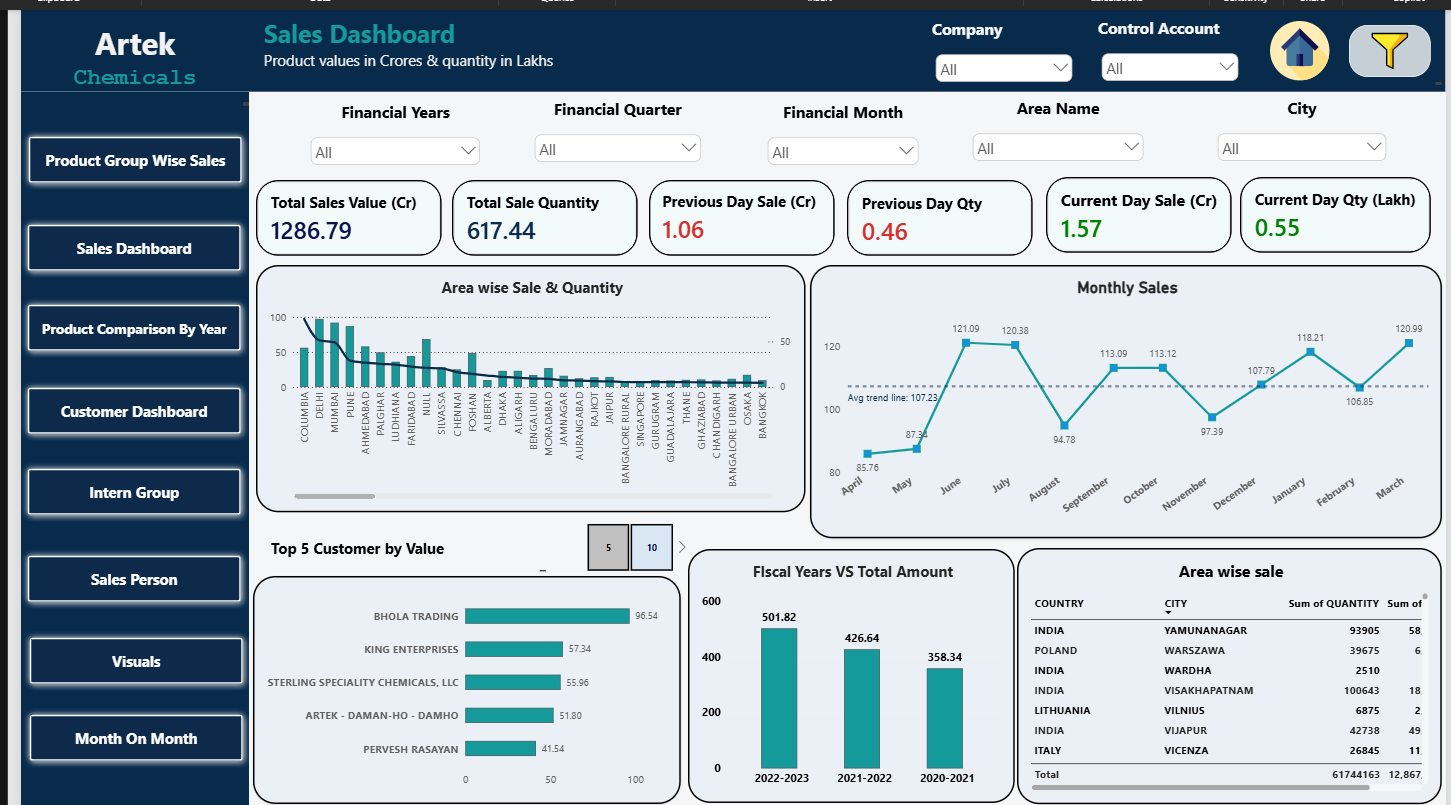

The page's visual inventory and layout, read from the dashboard file:
{"tool":"powerbi","page":{"name":"Sales Dashboard","canvas":[1920,1080],"ordinal":2},"visuals":[{"type":"columnChart","title":"FIscal Years VS Total Amount","fields":{"Category":["Calendar.Fiscal Year"],"Y":["FactSales.Total Sales Value (Cr)"]},"box":[897.6,726.4,440,342.4],"z":0},{"type":"tableEx","title":"Area wise sale","fields":{"Values":["FactSales.COUNTRY","FactSales.CITY","Sum(FactSales.QUANTITY)","Sum(FactSales.VALUE)"]},"box":[1341.2,724.5,572.3,344.7],"z":1000},{"type":"cardVisual","fields":{"Data":["FactSales.Total Quantity"]},"box":[580.3,228.6,250.3,102],"z":2000},{"type":"lineStackedColumnComboChart","title":"Area wise Sale & Quantity","fields":{"Category":["FactSales.CITY"],"Y":["FactSales.Total Sales Value (Cr)"],"Y2":["FactSales.Total Sale Quantity"]},"box":[316.8,344,739.8,333.2],"z":3000},{"type":"cardVisual","fields":{"Data":["FactSales.Previous Day Qty (Lakh)"]},"box":[1112.7,228.6,250,102],"z":4000},{"type":"shape","box":[0,110,307.1,970],"z":5000},{"type":"cardVisual","fields":{"Data":["FactSales.Current Day Sale (Cr)"]},"box":[1379.7,225.4,250.3,102],"z":6000},{"type":"shape","box":[0,0,1918.3,110],"z":7000},{"type":"cardVisual","fields":{"Data":["FactSales.Current Day Qty (Lakh)"]},"box":[1641.8,225.4,257.4,102.3],"z":8000},{"type":"textbox","title":"Sales Dashboard","box":[307.3,0,1606.3,109.3],"z":9000},{"type":"textbox","title":"Artek","box":[0,0,307.1,128.6],"z":10000},{"type":"lineChart","title":"Monthly Sales","fields":{"Category":["Calendar.Month Name"],"Y":["FactSales.Total Sales Value (Cr)"]},"box":[1062.5,343.4,851.1,367.6],"z":11000},{"type":"slicer","title":"Control Account","fields":{"Values":["FactSales.CONTROL_ACCOUNT"]},"box":[1449.8,10,194.3,90],"z":12000},{"type":"clusteredBarChart","title":"Top 5 customer  by Value","fields":{"Category":["FactSales.CUSTOMER"],"Y":["FactSales.Total Sales Value (Cr)"]},"box":[312,761.6,576,307.2],"z":13000},{"type":"actionButton","title":"Product Group wise Sales","box":[1.3,161.6,305,80],"z":14000},{"type":"slicer","title":"Company","fields":{"Values":["FactSales.COMPANY"]},"box":[1226.7,10.3,194.3,90],"z":15000},{"type":"cardVisual","fields":{"Data":["FactSales.Previous Day Sale (Cr)"]},"box":[845.7,228.6,250,102],"z":16000},{"type":"actionButton","title":"Product Group wise Sales","box":[0,280.1,305,80],"z":17000},{"type":"actionButton","title":"Product Group wise Sales","box":[0,387.8,305,80],"z":18000},{"type":"actionButton","title":"Product Group wise Sales","box":[0,499.6,305,80],"z":19000},{"type":"slicer","title":"Area Name","fields":{"Values":["FactSales.LOCATIONNAME"]},"box":[1276.8,116.8,240,89.6],"z":20000},{"type":"actionButton","title":"Product Group wise Sales","box":[0,608.7,305,80],"z":21000},{"type":"slicer","title":"City","fields":{"Values":["FactSales.CITY"]},"box":[1606.4,116.8,236.8,89.6],"z":22000},{"type":"actionButton","title":"Product Group wise Sales","box":[0,725.8,305,80],"z":23000},{"type":"actionButton","title":"Product Group wise Sales","box":[2.7,836.3,305,80],"z":24000},{"type":"actionButton","title":"Product Group wise Sales","box":[3.3,940,305,80],"z":25000},{"type":"slicer","title":"Financial Quarter ","fields":{"Values":["Calendar.Fiscal Quarter"]},"box":[686.4,118.4,233.6,89.6],"z":26000},{"type":"cardVisual","fields":{"Data":["FactSales.Total Sales Value (Cr)"]},"box":[316.5,228.6,250.3,102],"z":27000},{"type":"slicer","title":"Financial Month","fields":{"Values":["Calendar.Month Name"]},"box":[1000,123.2,212.8,89.6],"z":28000},{"type":"slicer","title":"Financial Years","fields":{"Values":["Calendar.Fiscal Year"]},"box":[385.6,123.2,238.4,89.6],"z":29000},{"type":"image","box":[1655,15,133.3,80],"z":30000},{"type":"slicer","fields":{"Values":["Top N Customer.Top N"]},"box":[742.5,688.3,154.6,68.5],"z":31000},{"type":"textbox","box":[336.7,711,369.7,44.6],"z":32000},{"type":"image","box":[1788.3,20,109.8,69.5],"z":33000}]}

Visuals, with their boxes on the page's 1920x1080 design canvas (x1, y1, x2, y2). These are canvas units, not pixel positions in the 1451x805 screenshot, which may show the page scaled, cropped or inside an application window:
"FIscal Years VS Total Amount" columnChart: [898,726,1338,1069]
"Area wise sale" tableEx: [1341,724,1914,1069]
cardVisual - FactSales.Total Quantity: [580,229,831,331]
"Area wise Sale & Quantity" lineStackedColumnComboChart: [317,344,1057,677]
cardVisual - FactSales.Previous Day Qty (Lakh): [1113,229,1363,331]
shape: [0,110,307,1080]
cardVisual - FactSales.Current Day Sale (Cr): [1380,225,1630,327]
shape: [0,0,1918,110]
cardVisual - FactSales.Current Day Qty (Lakh): [1642,225,1899,328]
"Sales Dashboard" textbox: [307,0,1914,109]
"Artek" textbox: [0,0,307,129]
"Monthly Sales" lineChart: [1062,343,1914,711]
"Control Account" slicer: [1450,10,1644,100]
"Top 5 customer  by Value" clusteredBarChart: [312,762,888,1069]
"Product Group wise Sales" actionButton: [1,162,306,242]
"Company" slicer: [1227,10,1421,100]
cardVisual - FactSales.Previous Day Sale (Cr): [846,229,1096,331]
"Product Group wise Sales" actionButton: [0,280,305,360]
"Product Group wise Sales" actionButton: [0,388,305,468]
"Product Group wise Sales" actionButton: [0,500,305,580]
"Area Name" slicer: [1277,117,1517,206]
"Product Group wise Sales" actionButton: [0,609,305,689]
"City" slicer: [1606,117,1843,206]
"Product Group wise Sales" actionButton: [0,726,305,806]
"Product Group wise Sales" actionButton: [3,836,308,916]
"Product Group wise Sales" actionButton: [3,940,308,1020]
"Financial Quarter " slicer: [686,118,920,208]
cardVisual - FactSales.Total Sales Value (Cr): [316,229,567,331]
"Financial Month" slicer: [1000,123,1213,213]
"Financial Years" slicer: [386,123,624,213]
image: [1655,15,1788,95]
slicer - Top N Customer.Top N: [742,688,897,757]
textbox: [337,711,706,756]
image: [1788,20,1898,90]
